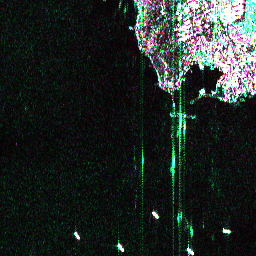ship: (149, 209, 161, 221), (115, 241, 126, 254), (72, 230, 82, 242), (185, 245, 195, 255), (221, 227, 232, 234)
